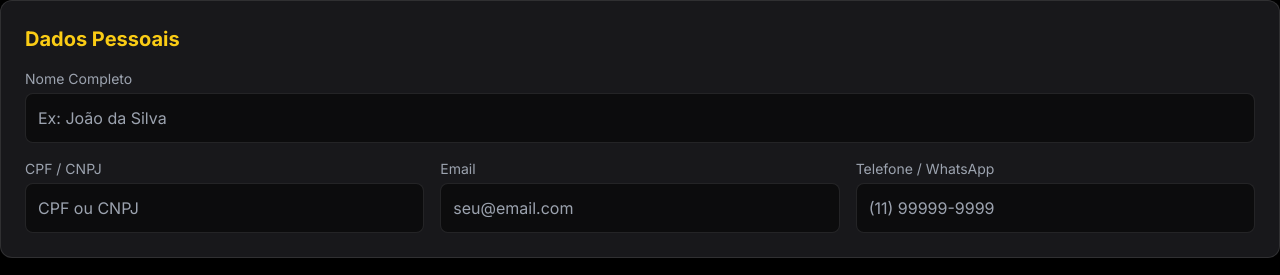
Test case: CustomerForm Component › deve aplicar a máscara de CPF ao digitar
Type "12345678900" into the field with placeholder "CPF ou CNPJ".
click(225, 208); type("12345678900")  # box [25,183,424,233]
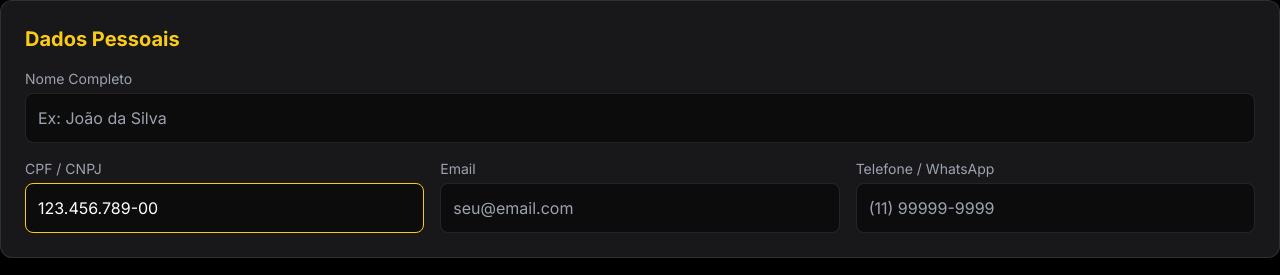
Check: the field with placeholder "CPF ou CNPJ" holds "123.456.789-00", box [25,183,424,233]
